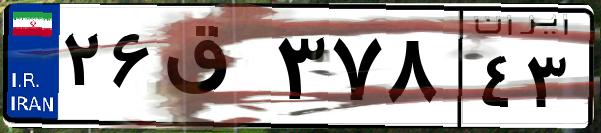2: (57, 26, 110, 100)
3: (270, 28, 330, 110), (525, 38, 570, 115)
4: (475, 38, 525, 113)
6: (110, 28, 158, 98)
7: (330, 28, 385, 110)
8: (385, 28, 445, 110)
ق: (158, 20, 270, 120)
